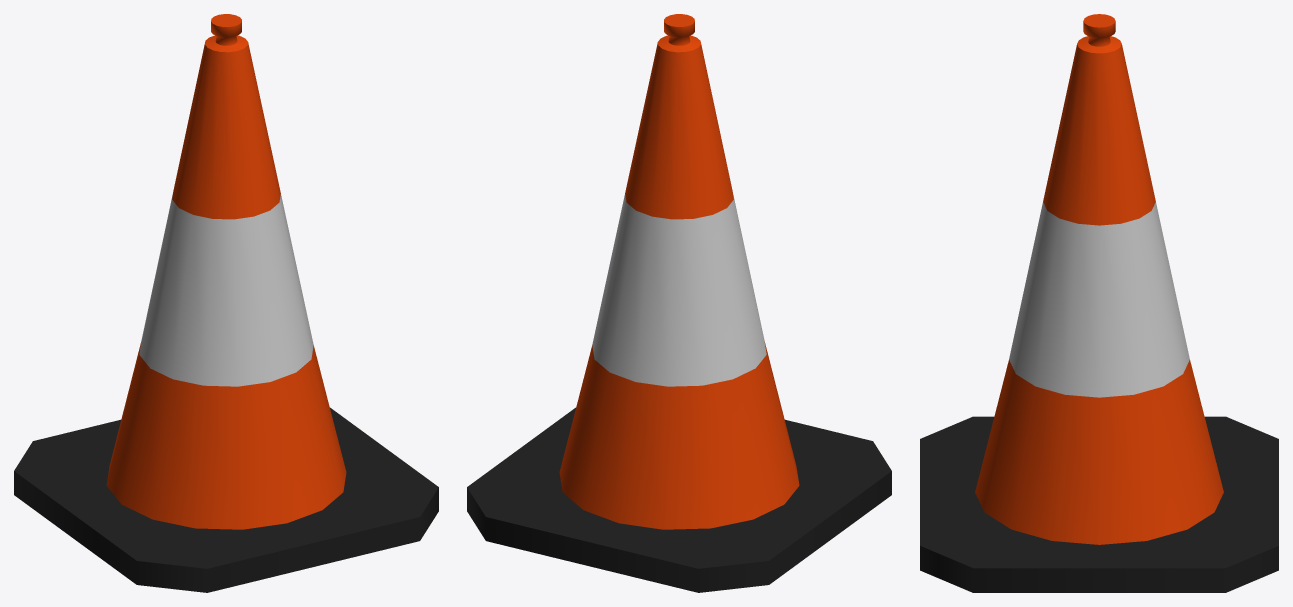
File: TrafficCone.fbx
The picture shows the model from 3 angles, left to right: view 1: azimuth 30°, elevation 25°; view 2: azimuth 150°, elevation 25°; view 3: azimuth 270°, elevation 25°; orthographic projection. The views are drawn at different scales.
Visible parts, largest first — view 1: Cylinder; view 2: Cylinder; view 3: Cylinder.
Boxes of the visible parts, <box> form: Cylinder: <box>14,14,438,592</box>; Cylinder: <box>467,14,891,592</box>; Cylinder: <box>920,14,1278,592</box>.
Bounding box in the file's own units: 0.6551 × 1 × 0.6551.
